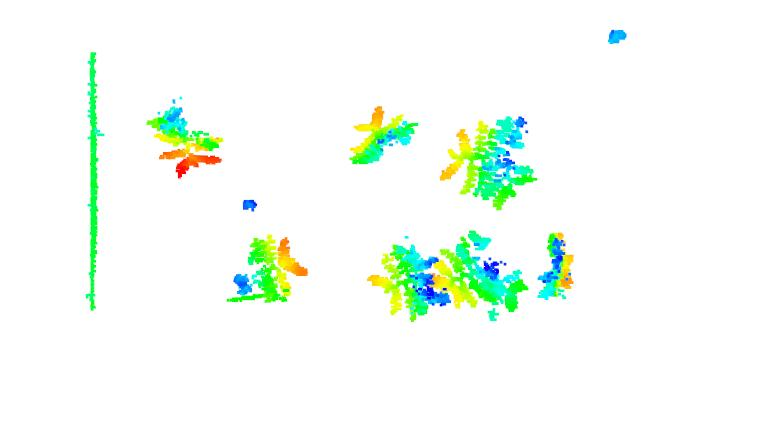chickpea: (438, 113, 535, 210), (432, 230, 525, 311), (143, 106, 224, 181), (366, 243, 437, 321), (345, 105, 418, 167), (246, 232, 310, 299), (533, 232, 576, 301)
